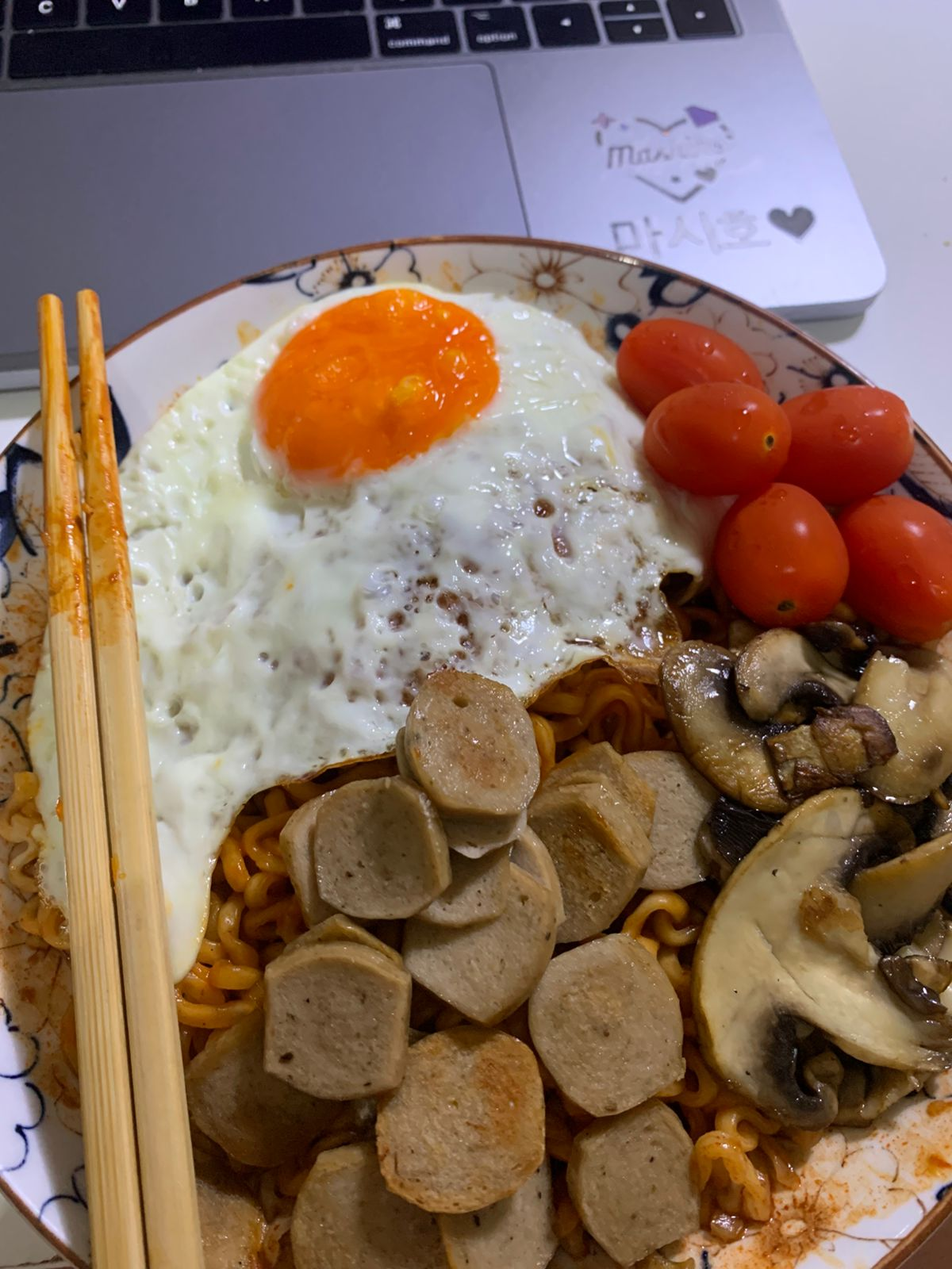buah_sayur_vitA: (646, 324, 935, 654)
telur: (94, 330, 639, 715)
